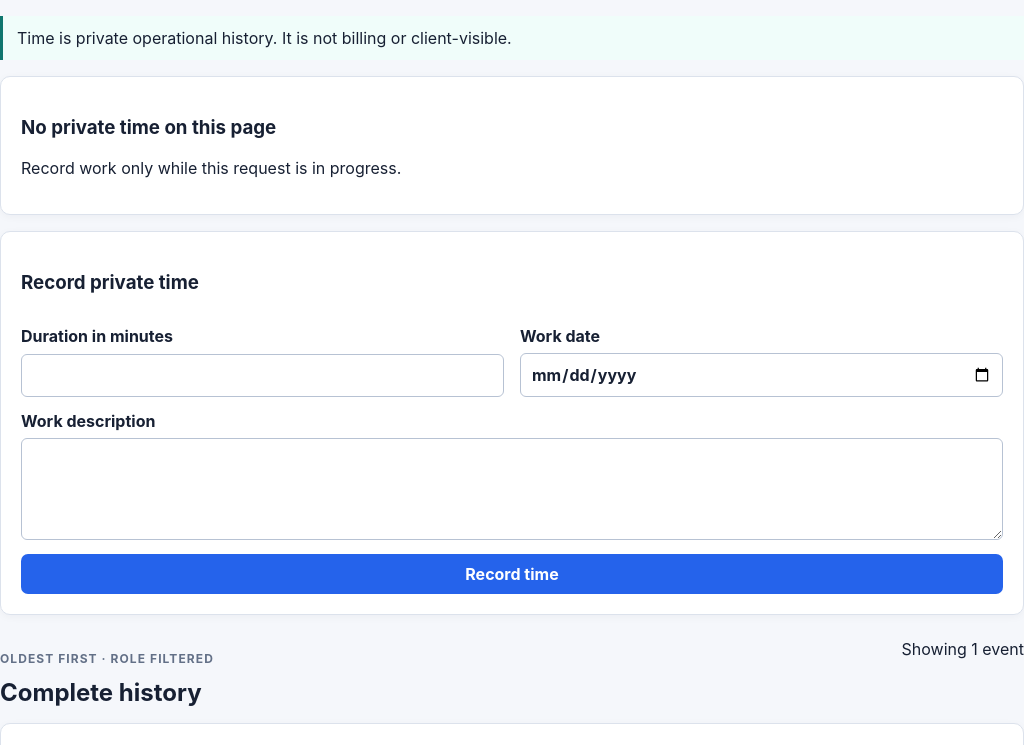
Test: P005 work and history UI › records normalized private time and preserves input on server failure
This screenshot has width=1024, height=745.
(page scrolled)
Expected: the heading "Record private time" is shown, [21,271,199,294]
In the field labelled "Duration in minutes": x=262, y=376 [21,354,504,397], type "45"
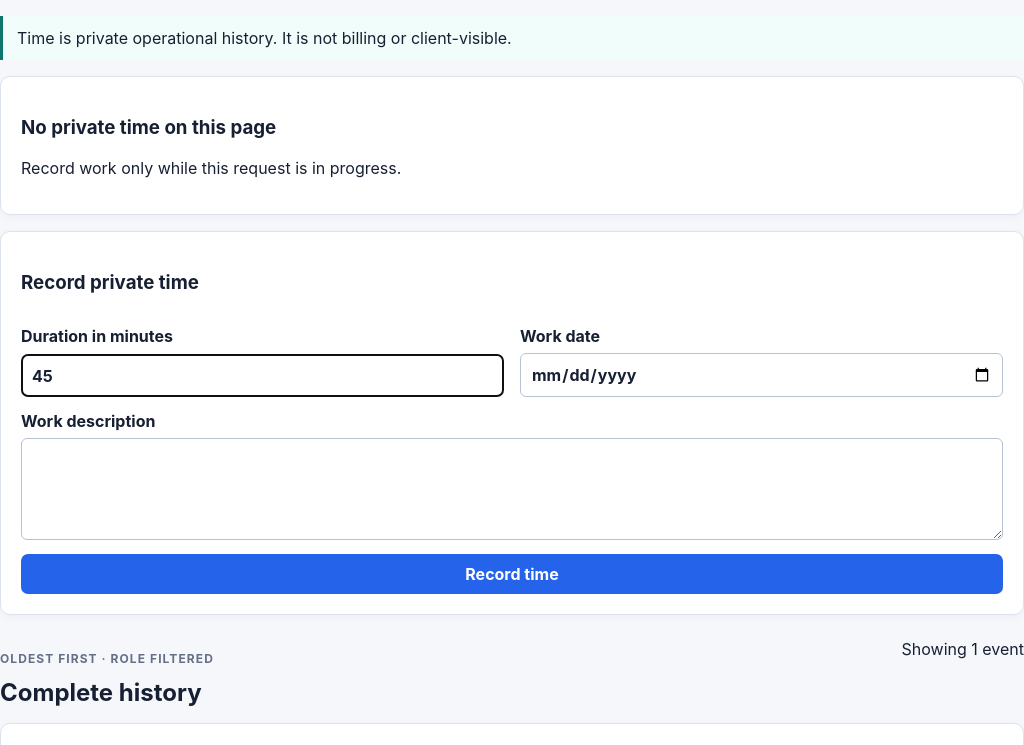
In the text box labelled "Work description": x=512, y=489 [21,438,1003,540], type "  Verified the complete workflow.  "
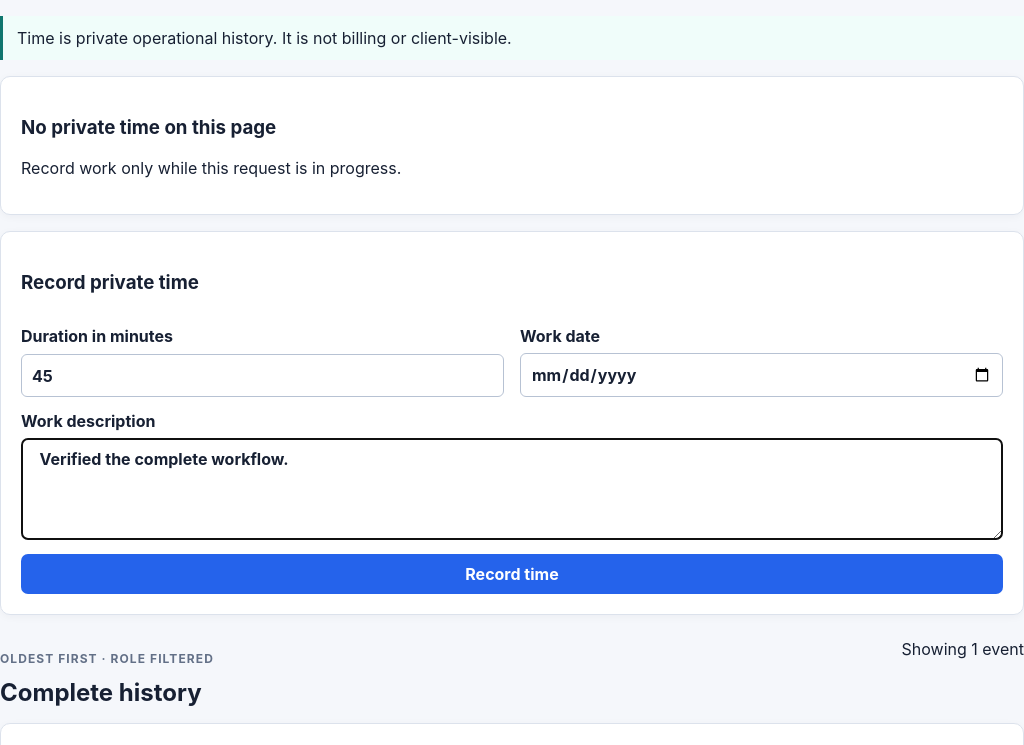
In the date field labelled "Work date": x=762, y=375 [520,353,1003,397], type "2026-07-27"
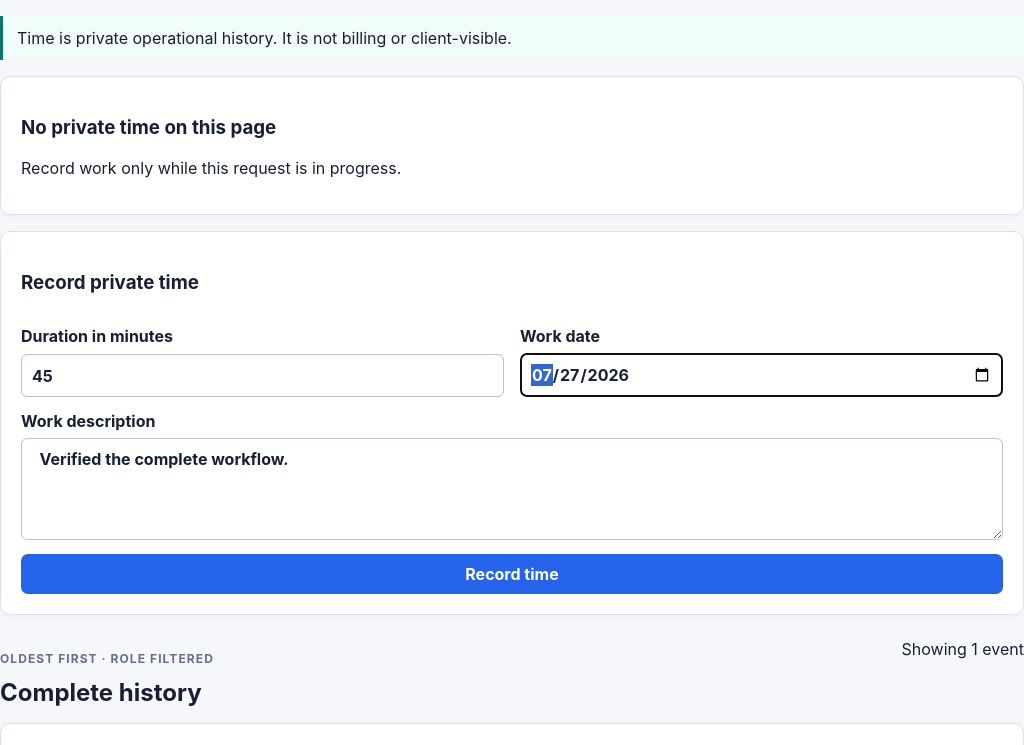
Click the button "Record time": x=512, y=574 [21,554,1003,594]
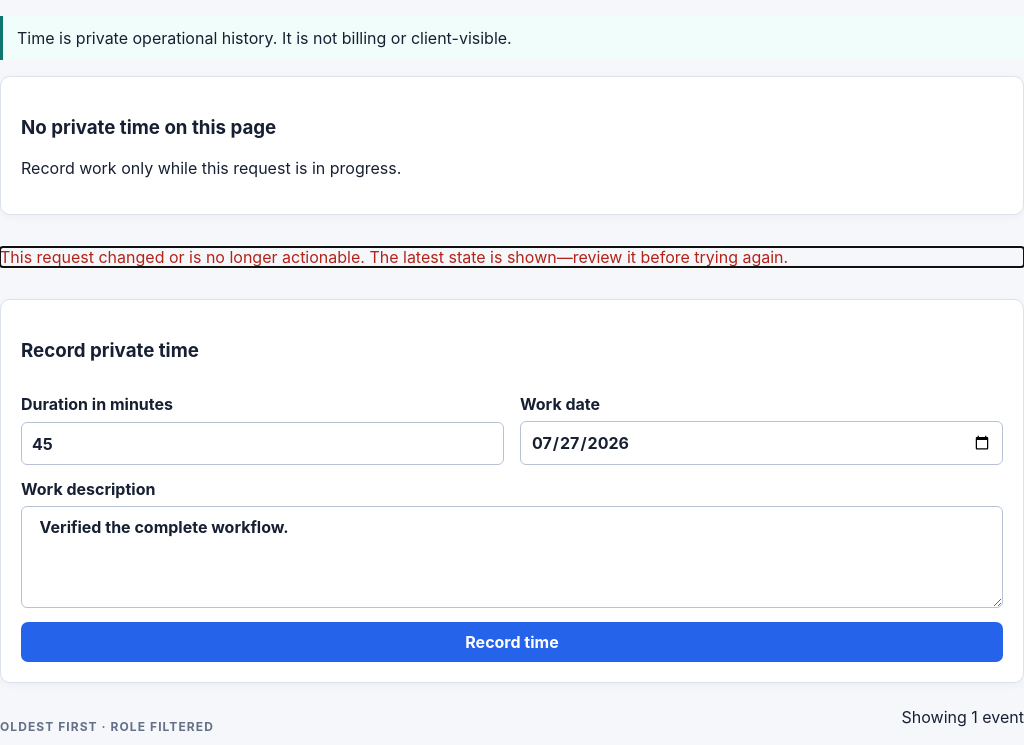
Expected: the message shows "This request changed or is no longer actionable.", [0,247,788,267]
